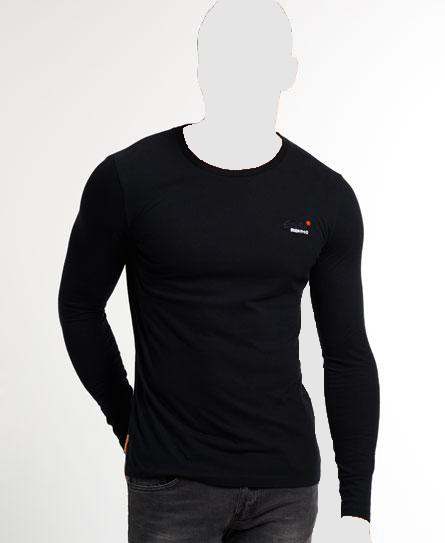teeshirt: (54, 119, 386, 524)
